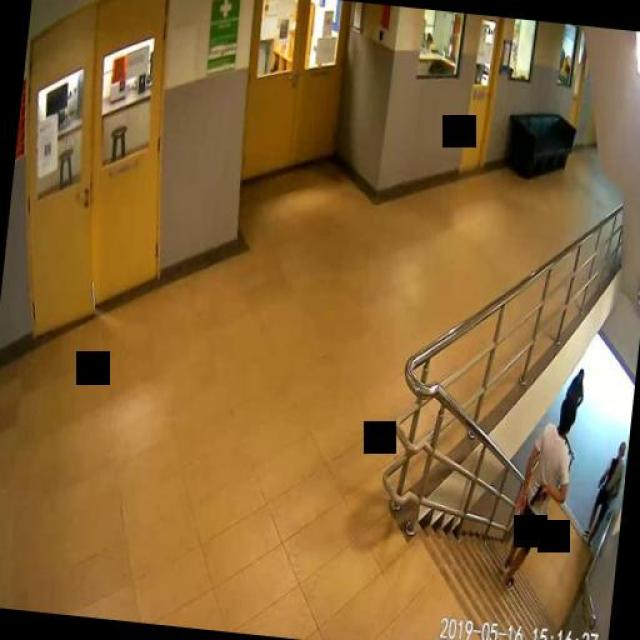gun: (528, 484, 548, 506)
